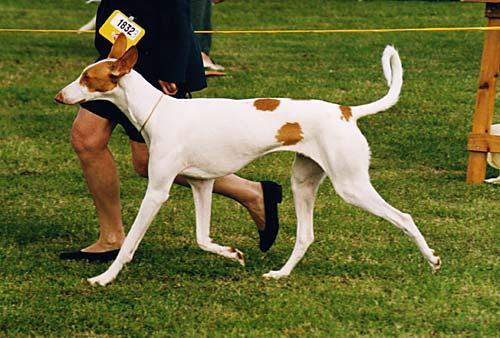Ibizan_hound: (53, 31, 441, 286)
